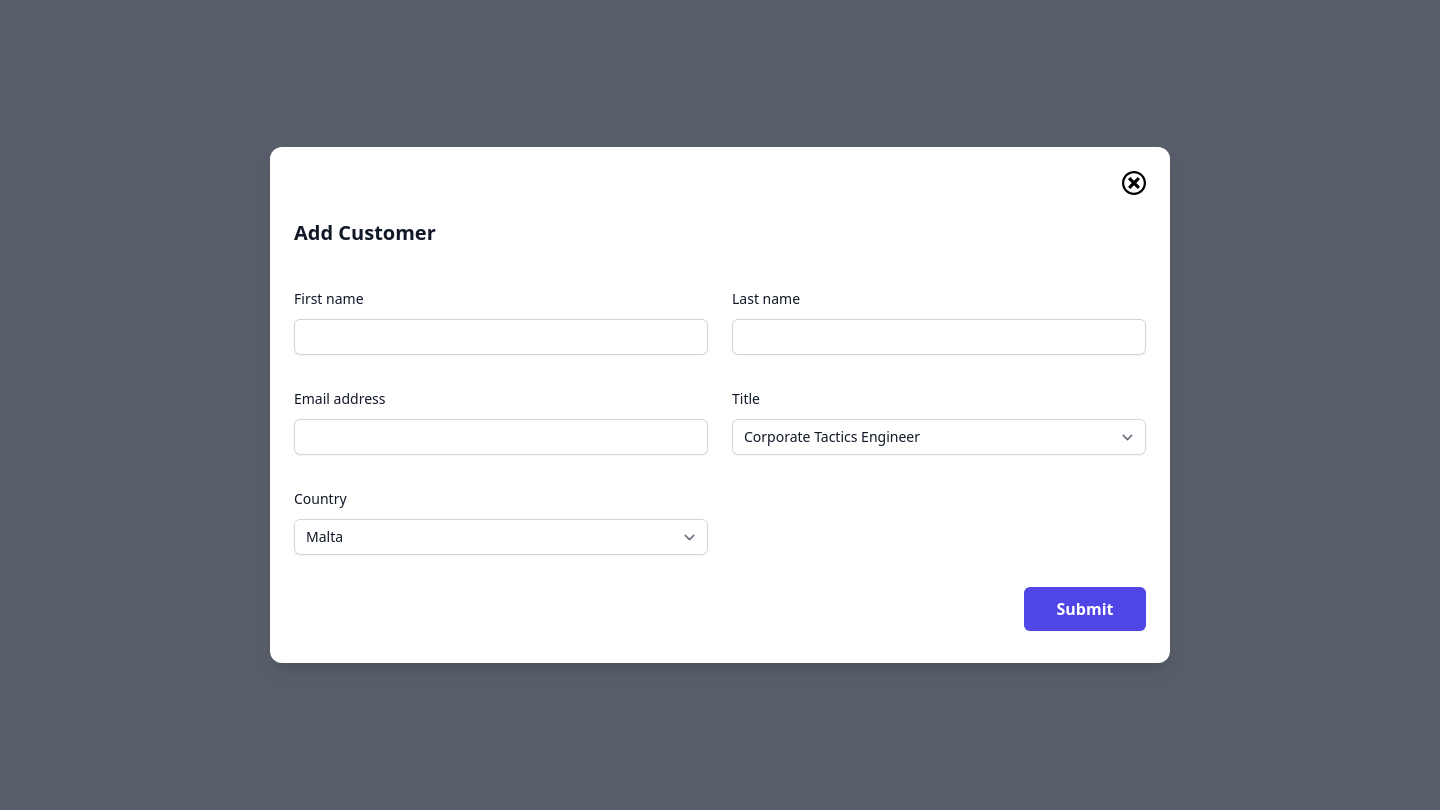
Test case: Test FormModal component: Form validation › shows errors when submitting empty form
Click the button "Submit".
click(1085, 609)  # box x1=1024 y1=587 x2=1146 y2=631
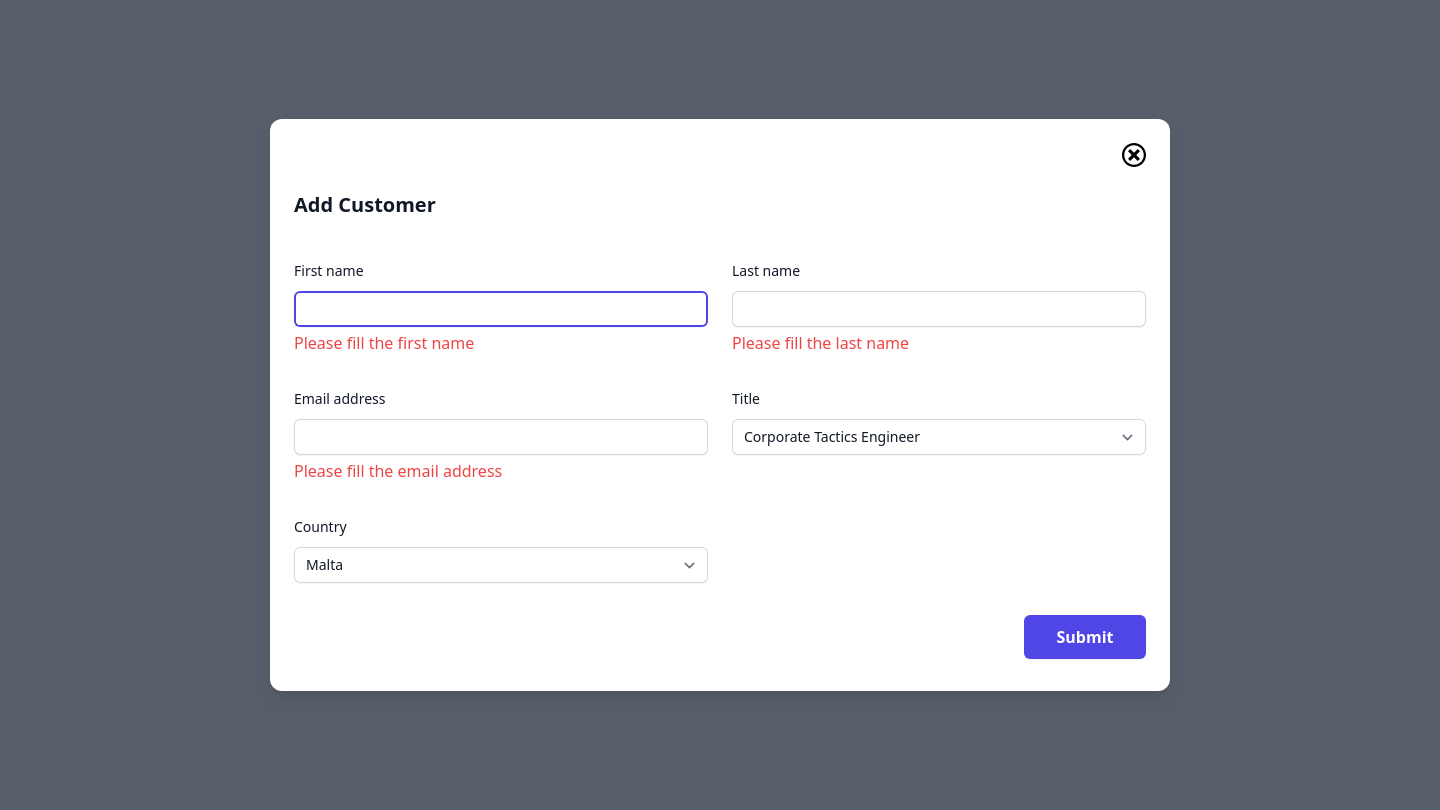
Check: the text with test id "first-name-error" reads "Please fill the first name", box x1=294 y1=332 x2=474 y2=354
Check: the text with test id "last-name-error" reads "Please fill the last name", box x1=732 y1=332 x2=909 y2=354
Check: the text with test id "email-error" shows "Please fill the email", box x1=294 y1=460 x2=502 y2=482
